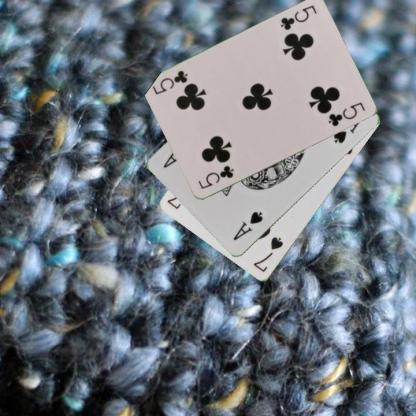5c: (277, 3, 318, 32), (195, 163, 235, 191)
7s: (251, 234, 285, 274)
As: (231, 209, 264, 242)
